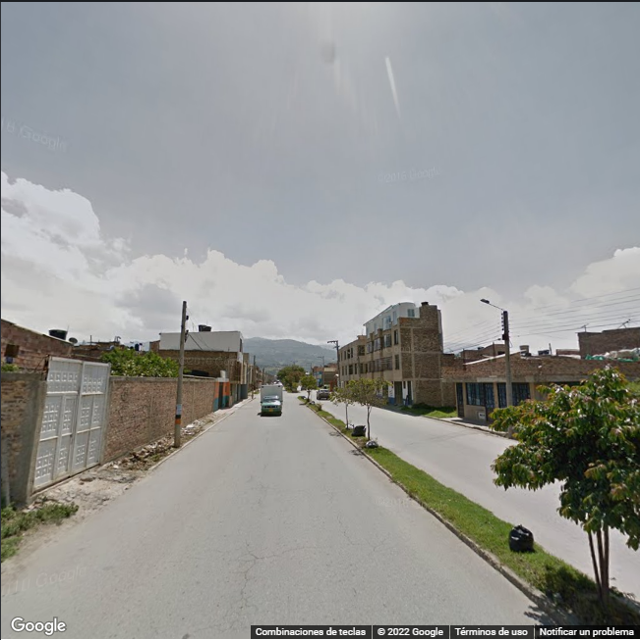D00: (336, 504, 361, 543), (243, 556, 254, 607)
D10: (255, 541, 331, 560)
